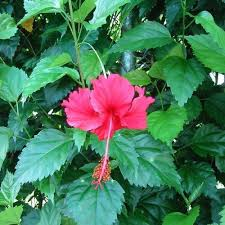hybiscus: (64, 73, 154, 189)
